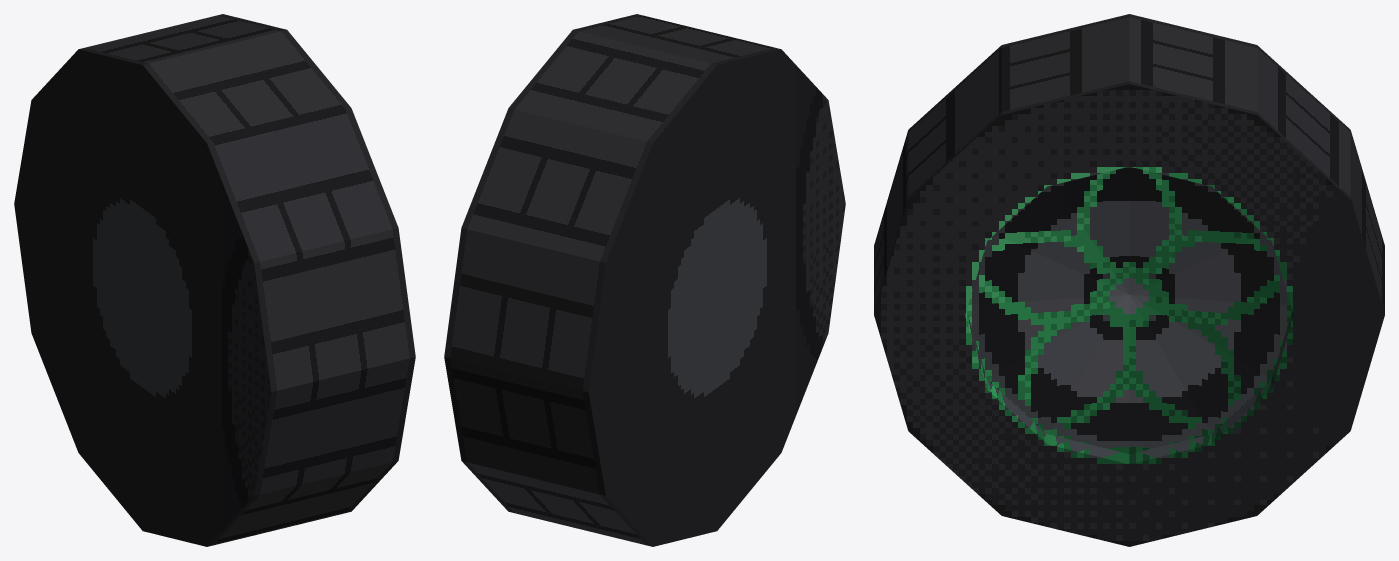
The model's file is wheel_ysp.glb.
3 renders of one model, left to right at view 1: azimuth 30°, elevation 25°; view 2: azimuth 150°, elevation 25°; view 3: azimuth 270°, elevation 25°, orthographic.
Visible parts, largest first — view 1: wheel_ysp; view 2: wheel_ysp; view 3: wheel_ysp.
Part boxes in pixels (x1,y1,x2,y2): wheel_ysp: (14, 14, 415, 546); wheel_ysp: (444, 14, 845, 546); wheel_ysp: (874, 14, 1384, 546).
Bounding box in the file's own units: 0.205 × 0.6319 × 0.6319.
1 material, 1 textured.
